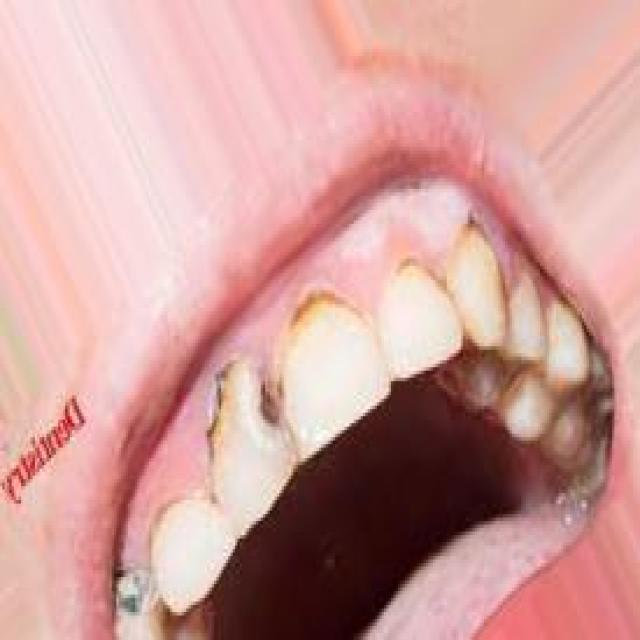caries: (201, 345, 290, 465), (108, 534, 180, 630)
